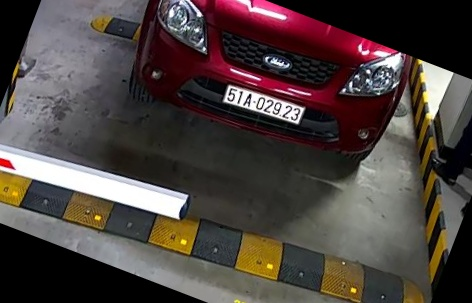plate: (223, 81, 304, 129)
